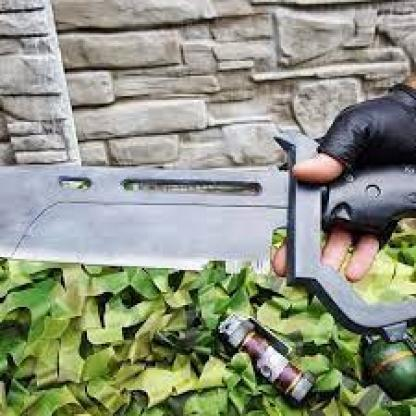Grenade: (216, 310, 317, 404), (355, 327, 416, 402)
Knife: (0, 129, 416, 332)
